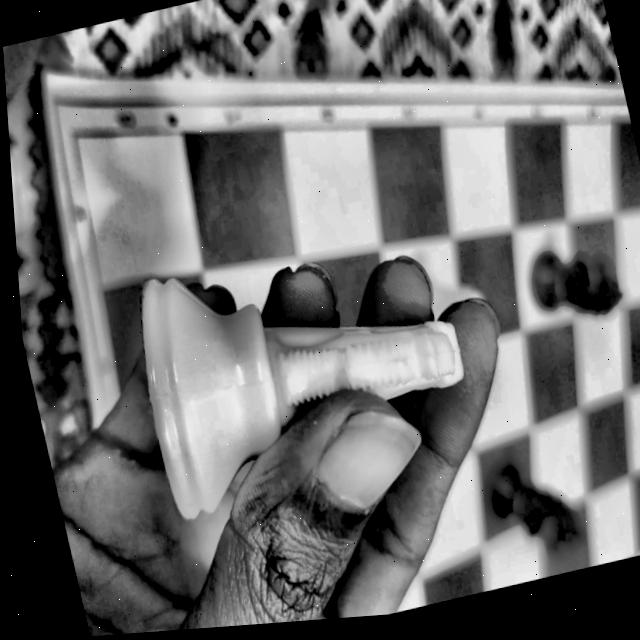BlackKnight: (477, 440, 585, 571), (521, 232, 628, 332)
WhiteKnight: (120, 206, 492, 525)
